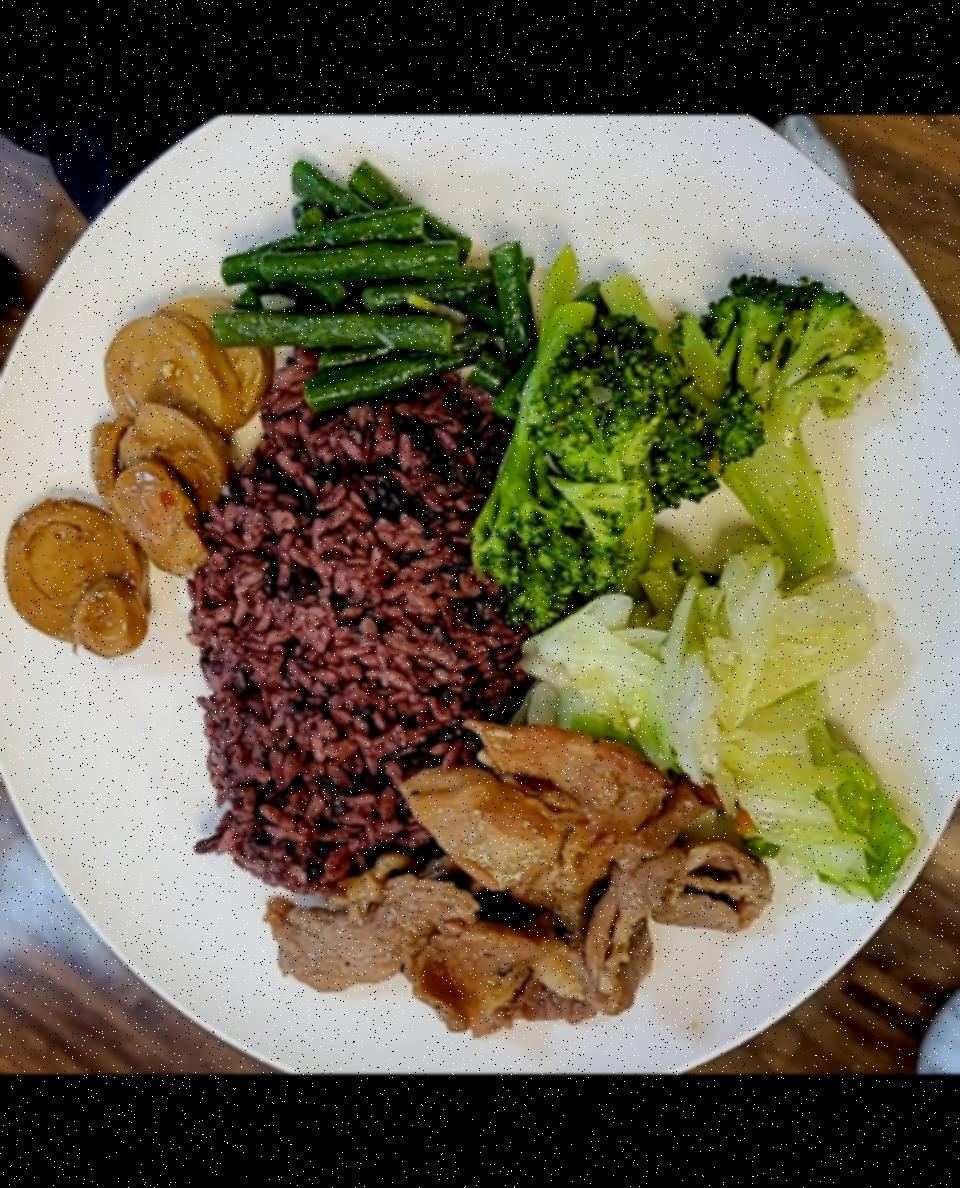plate: (0, 117, 960, 1074)
purple rice: (184, 327, 547, 907)
sauteed pork: (254, 709, 773, 1037)
side dish: (482, 256, 885, 618), (512, 580, 906, 900), (0, 269, 266, 679), (209, 167, 537, 419)
